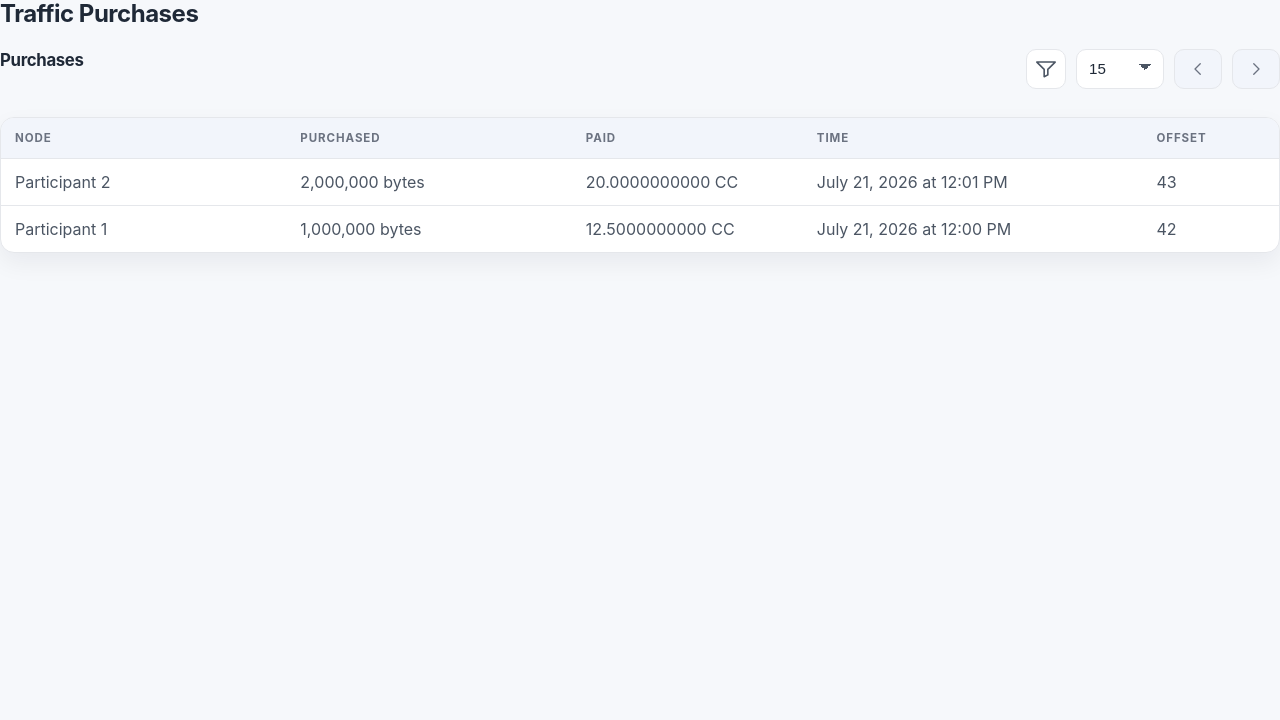
Test case: TrafficPurchasesView › sends selected nodes to the backend and renders no rows when all are unchecked
This screenshot has width=1280, height=720.
Click the button named "Advanced Search": click(1046, 69) [1026,49,1066,89]
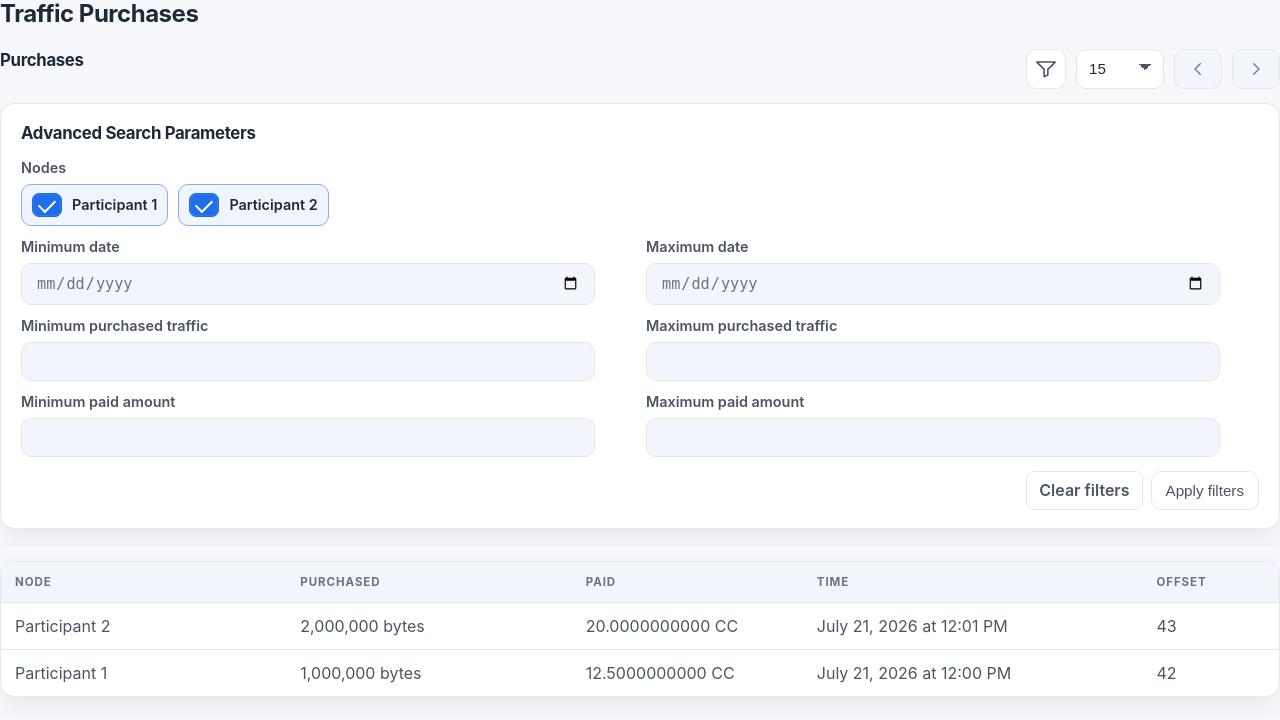
Click the checkbox labelled "Participant 1": click(47, 205) [32,193,62,217]
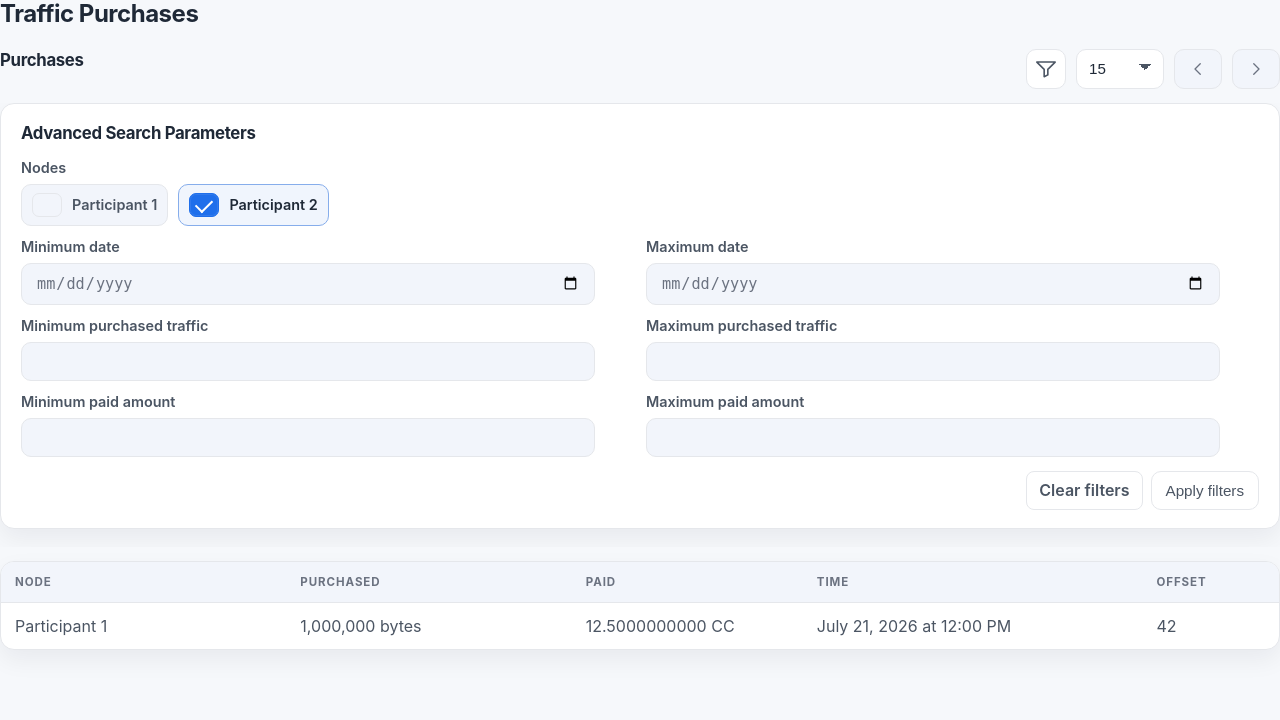
Click the checkbox labelled "Participant 2": click(204, 205) [189,193,219,217]
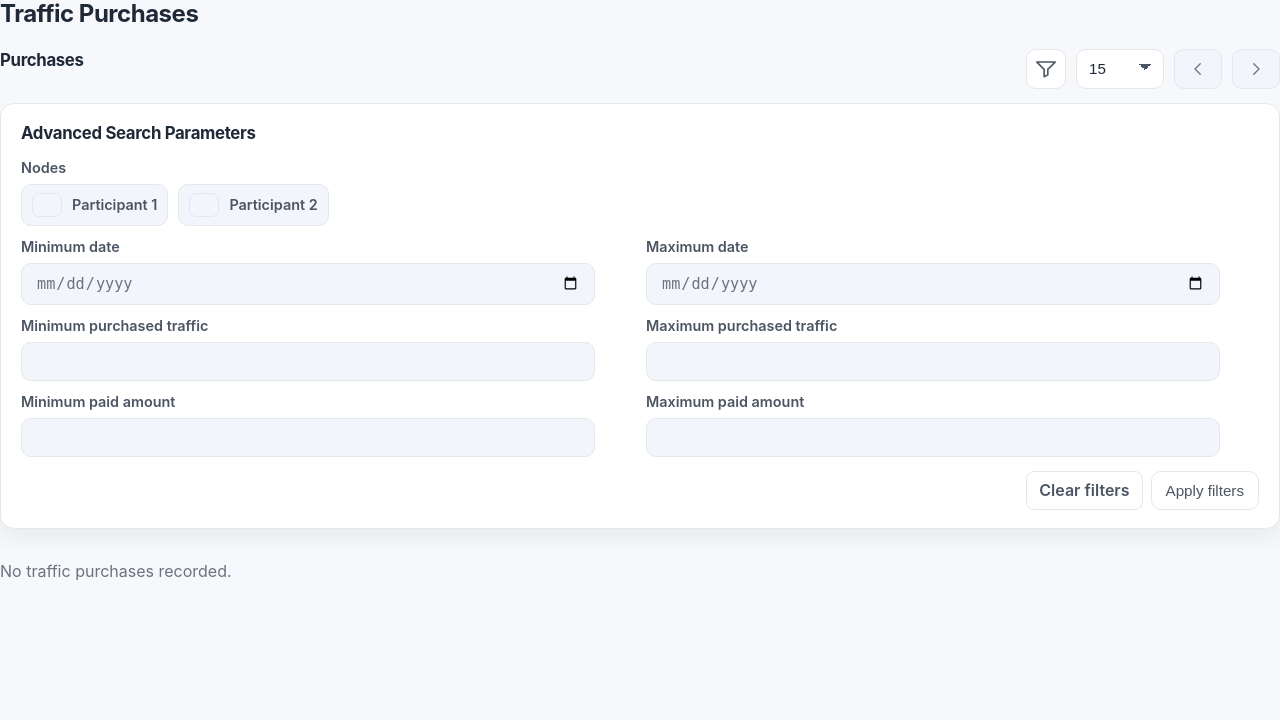
Check: the text "No traffic purchases recorded." is shown, box [0,561,232,581]
